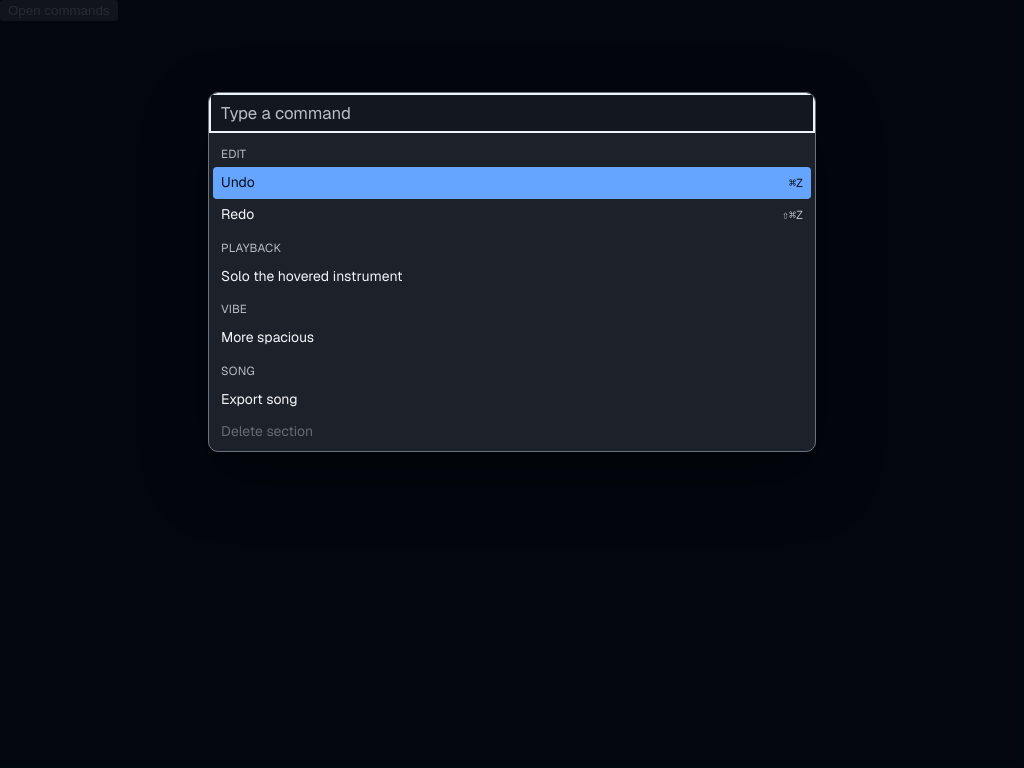
Test: CommandPalette › shows the empty state when nothing matches
Type "zzz" into the dropdown named "Commands" at (512, 113), box [209,93,815,133]
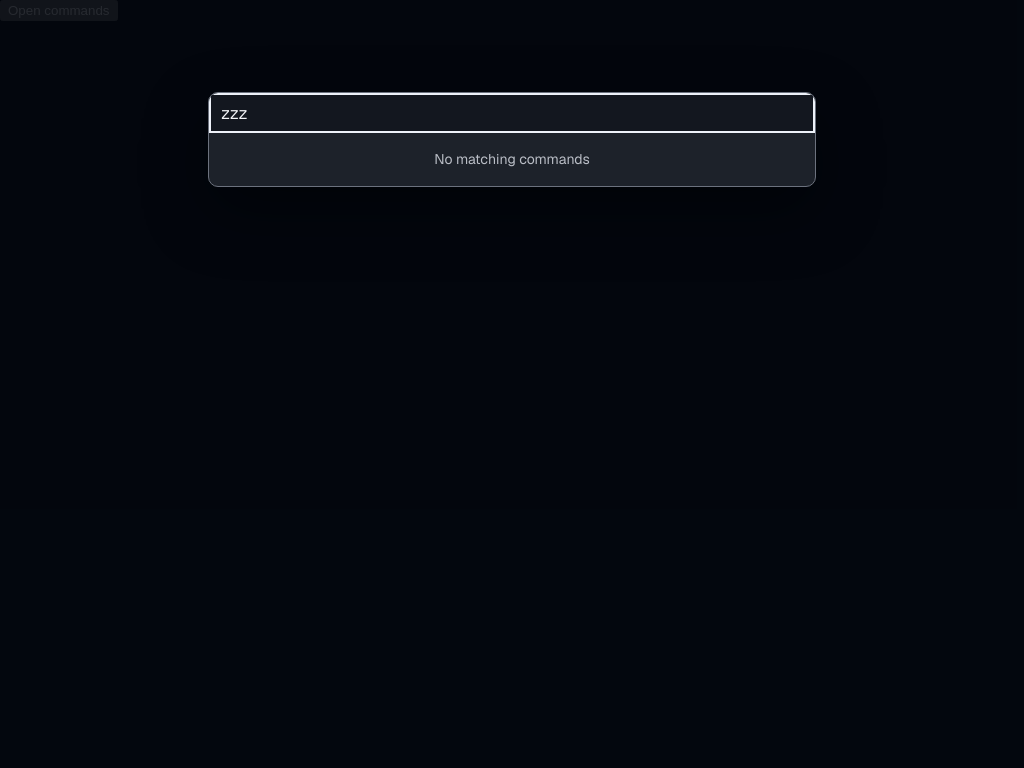
Expected: the text "No matching commands" is shown, [434,150,590,168]
Expected: no options are shown
